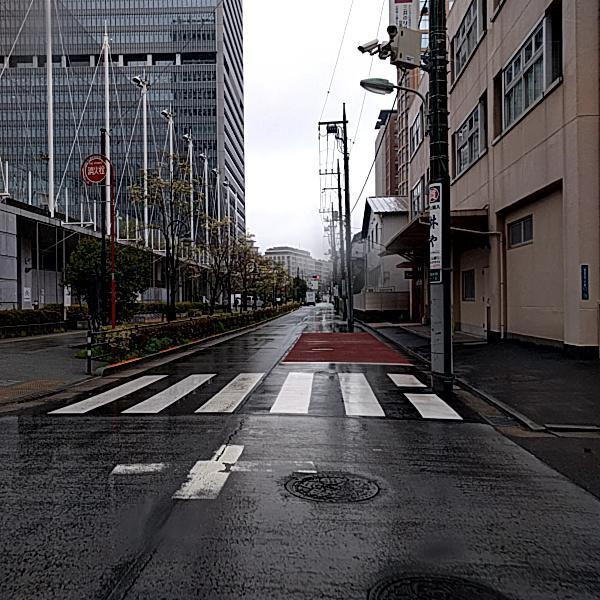D00: (212, 418, 245, 462)
D50: (369, 564, 532, 599), (279, 468, 383, 506)
